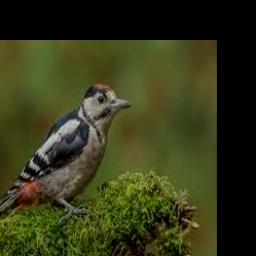Woodpecker: (0, 83, 132, 220)
